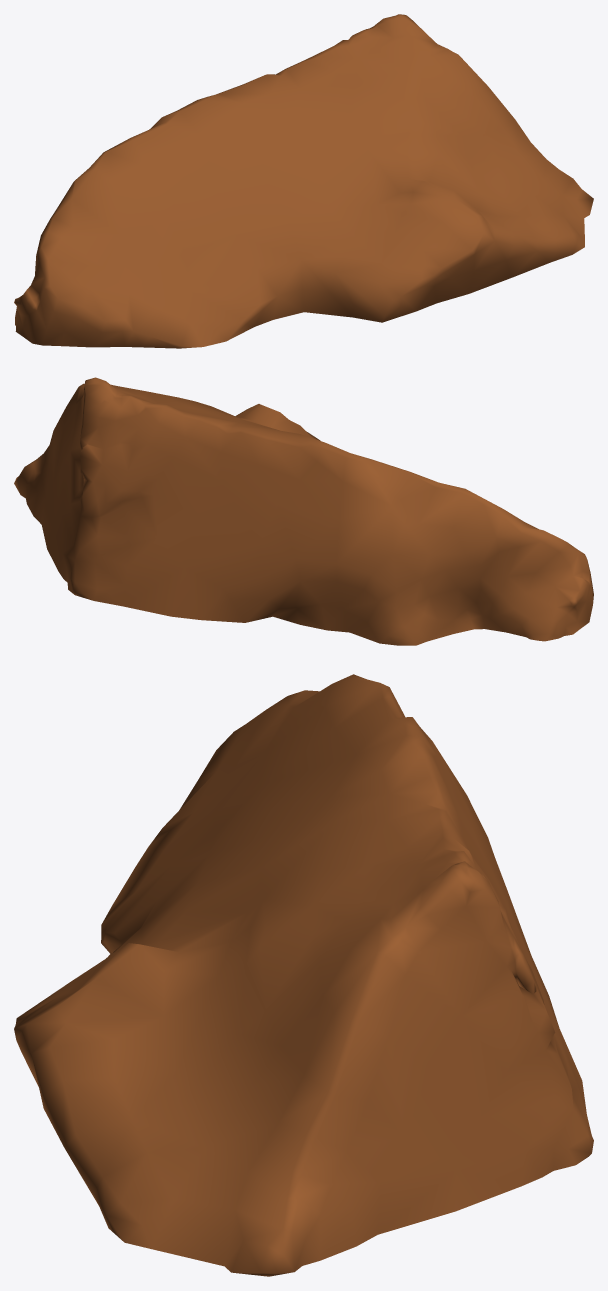
The model's file is MSH_Rocks_Boulder_02.FBX.
3 renders of one model, top to bottom at view 1: azimuth 30°, elevation 25°; view 2: azimuth 150°, elevation 25°; view 3: azimuth 270°, elevation 25°, orthographic. The views are drawn at different scales.
Visible parts, largest first — view 1: MESH_LOD0; view 2: MESH_LOD0; view 3: MESH_LOD0.
Boxes of the visible parts, bbox=[...] form: MESH_LOD0: bbox=[14, 14, 593, 348]; MESH_LOD0: bbox=[14, 377, 593, 645]; MESH_LOD0: bbox=[14, 674, 593, 1276].
Size of what is drawn, in the model's own units: 111 by 33.64 by 58.54.
